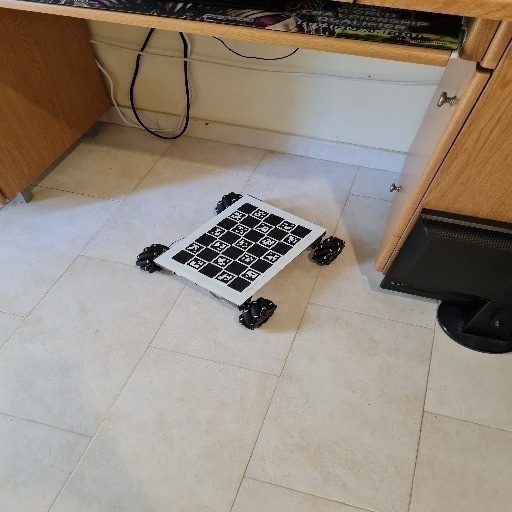Omniwheel: (135, 193, 346, 331)
